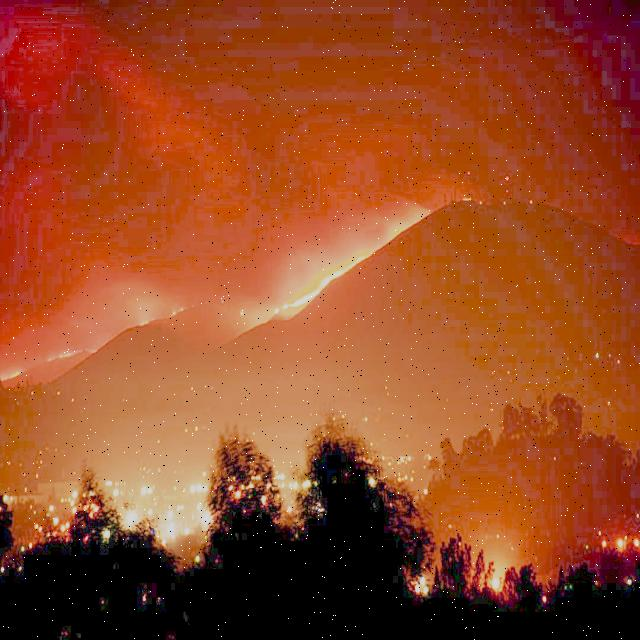api: (270, 216, 420, 320), (2, 362, 34, 390)
